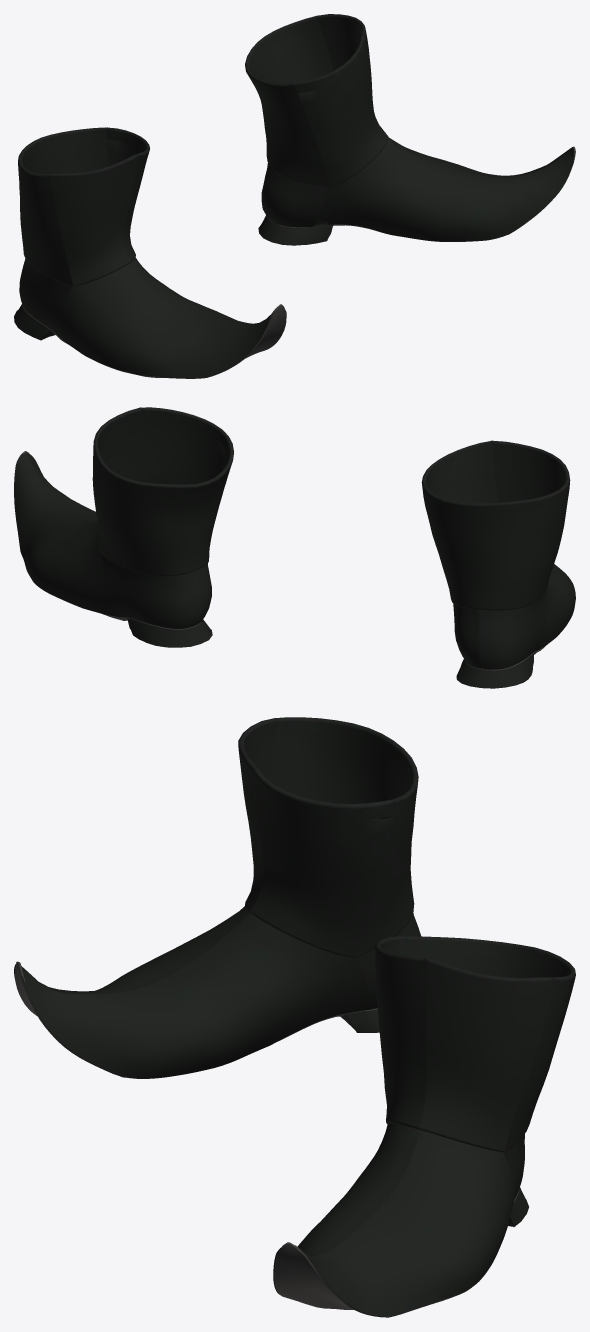
File: COSSACK_BOOTS_4#10.glb
3 renders of one model, top to bottom at view 1: azimuth 30°, elevation 25°; view 2: azimuth 150°, elevation 25°; view 3: azimuth 270°, elevation 25°, orthographic. The views are drawn at different scales.
Visible parts, largest first — view 1: shoes_4_lev_kazak; view 2: shoes_4_lev_kazak; view 3: shoes_4_lev_kazak.
Boxes of the visible parts, box(x1,y1,x2,y2) form: shoes_4_lev_kazak: box(14, 14, 575, 378); shoes_4_lev_kazak: box(14, 407, 575, 688); shoes_4_lev_kazak: box(14, 717, 575, 1317).
Size of the model in its own units: 5.12 by 1.79 by 3.19.
Materials: 1 (1 with a texture image).
